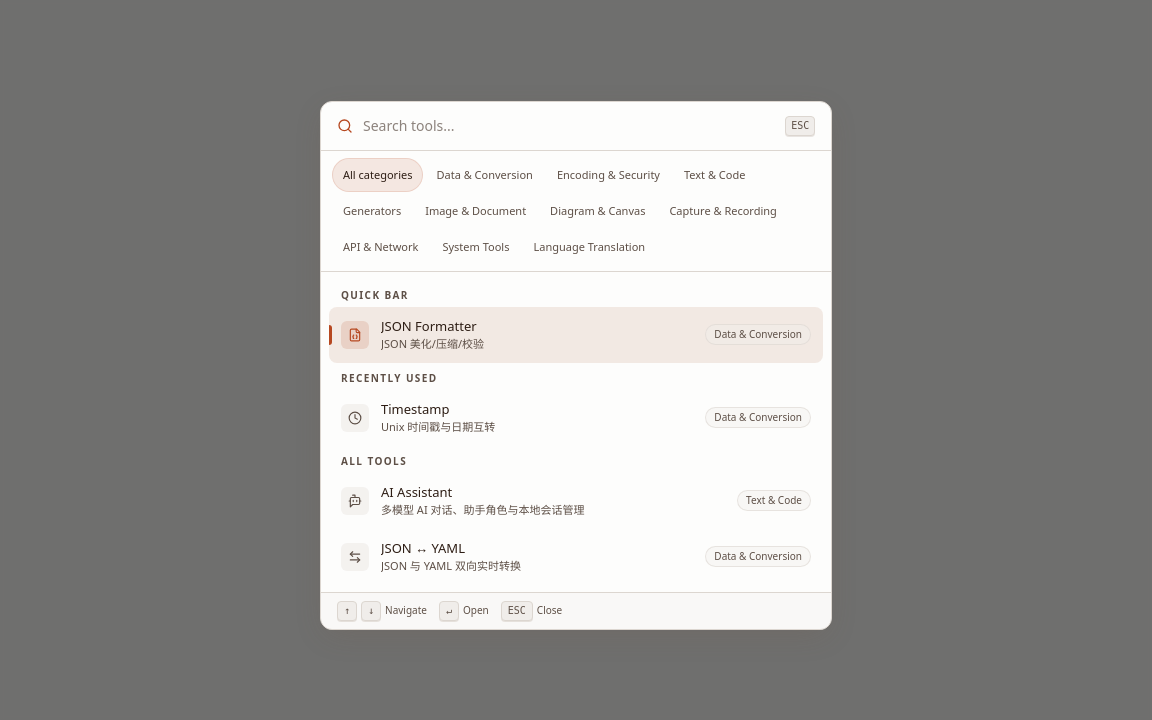
it: 工具搜索命令面板 › 无结果时给出可操作的搜索建议
Step 1. Type "不存在的工具" into the dropdown → {"x": 569, "y": 126}, box [363,102,775,150]
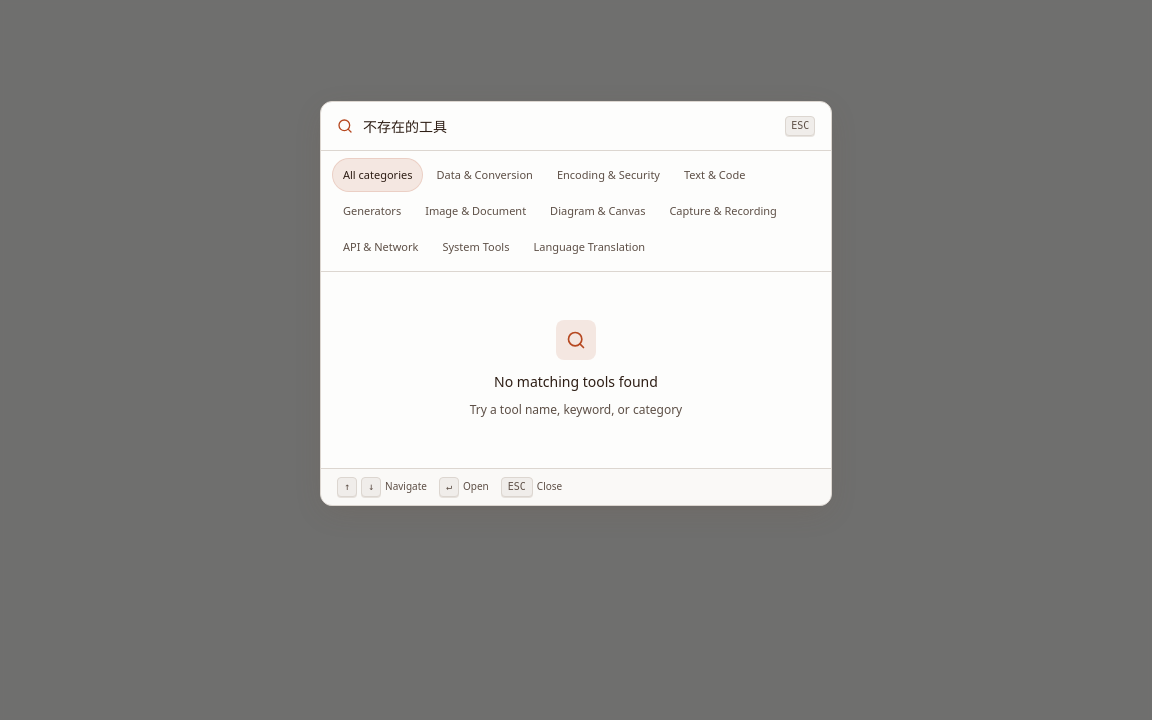
Now the text "Try a tool name, keyword, or category" is shown, box [470,400,682,420]
